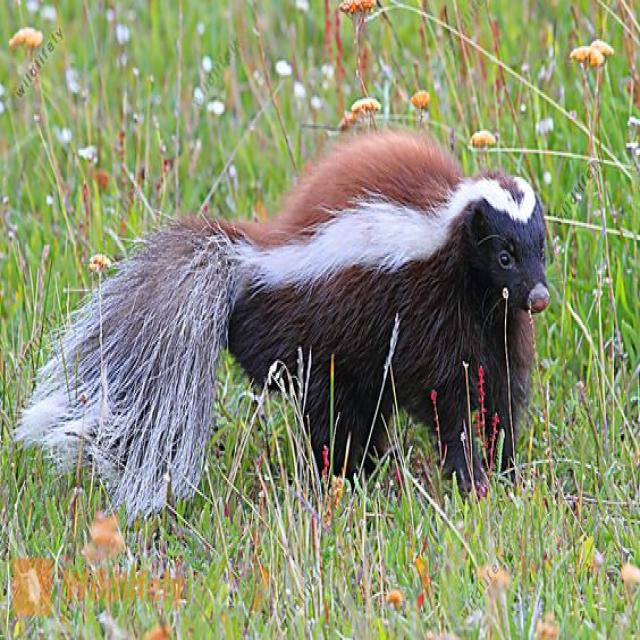Skunk: (39, 115, 564, 510)
